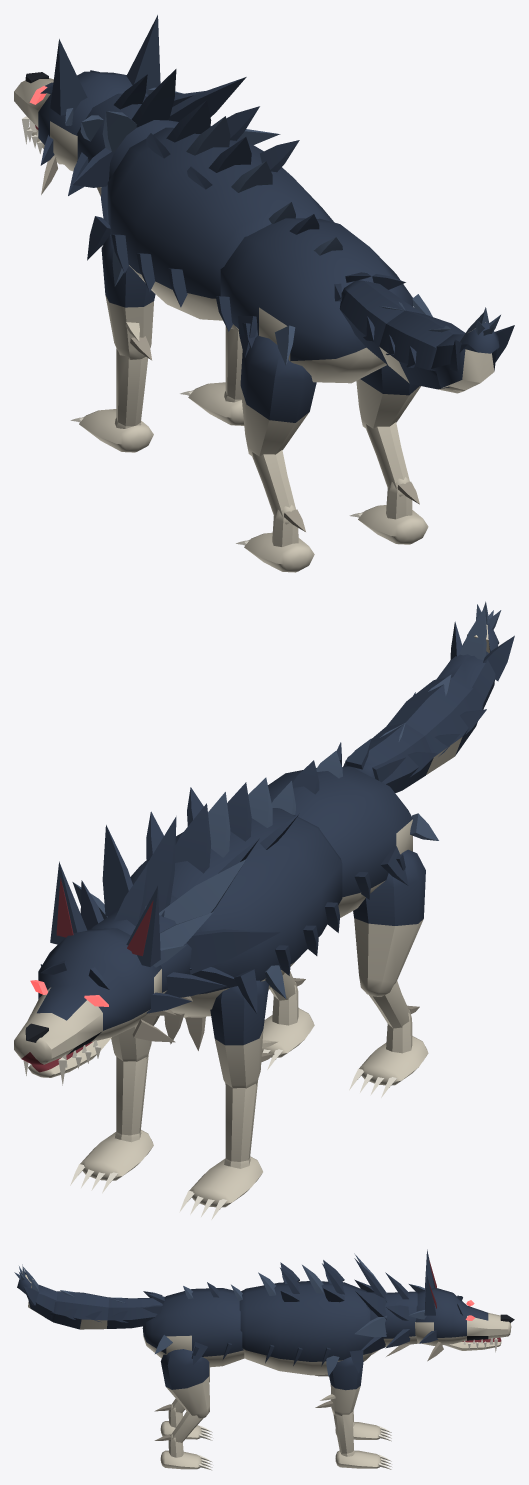
Rendered from SpiritWolf.fbx.
3 renders of one model, top to bottom at view 1: azimuth 30°, elevation 25°; view 2: azimuth 150°, elevation 25°; view 3: azimuth 270°, elevation 25°, orthographic. The views are drawn at different scales.
Visible parts, largest first — view 1: Chest, Hips, Neck, UpperLegBL, Skull, TailMid, UpperLegFL, TailTip, TailBase, PawBR, PawBL, UpperLegBR (+8 smaller); view 2: Chest, Skull, Neck, Hips, UpperLegBL, TailMid, UpperLegFL, TailTip, TailBase, PawBL, PawFL, PawFR (+8 smaller); view 3: Chest, Hips, Skull, Neck, UpperLegBR, TailMid, UpperLegFR, TailBase, TailTip, PawBR, PawFR, PawBL (+5 smaller).
Boxes of the visible parts, left/top/right/bottom form: Chest: left=87, top=100, right=334, bottom=320; Hips: left=215, top=202, right=432, bottom=383; Neck: left=68, top=69, right=280, bottom=223; UpperLegBL: left=240, top=335, right=316, bottom=456; Skull: left=14, top=70, right=182, bottom=194; TailMid: left=379, top=310, right=465, bottom=393; UpperLegFL: left=101, top=235, right=155, bottom=360; TailTip: left=431, top=307, right=514, bottom=391; TailBase: left=339, top=280, right=424, bottom=364; PawBR: left=349, top=477, right=428, bottom=544; PawBL: left=236, top=505, right=314, bottom=572; UpperLegBR: left=356, top=365, right=420, bottom=428; Chest: left=130, top=777, right=342, bottom=1050; Skull: left=14, top=928, right=191, bottom=1085; Neck: left=72, top=816, right=280, bottom=1015; Hips: left=268, top=738, right=438, bottom=917; UpperLegBL: left=353, top=849, right=425, bottom=996; TailMid: left=387, top=674, right=486, bottom=774; UpperLegFL: left=210, top=980, right=278, bottom=1088; TailTip: left=436, top=601, right=514, bottom=709; TailBase: left=343, top=723, right=437, bottom=792; PawBL: left=349, top=1005, right=428, bottom=1097; PawFL: left=179, top=1156, right=262, bottom=1219; PawFR: left=70, top=1130, right=153, bottom=1193; Chest: left=239, top=1260, right=373, bottom=1376; Hips: left=142, top=1282, right=244, bottom=1367; Skull: left=408, top=1284, right=514, bottom=1361; Neck: left=354, top=1253, right=418, bottom=1356; UpperLegBR: left=160, top=1349, right=209, bottom=1418; TailMid: left=45, top=1290, right=108, bottom=1329; UpperLegFR: left=315, top=1357, right=363, bottom=1415; TailBase: left=107, top=1297, right=162, bottom=1328; TailTip: left=14, top=1264, right=57, bottom=1320; PawBR: left=154, top=1434, right=212, bottom=1470; PawFR: left=335, top=1450, right=391, bottom=1469; PawBL: left=154, top=1404, right=212, bottom=1440.
Size of the model in its own units: 2.74 by 4.55 by 10.66.
2 materials, 1 textured.
